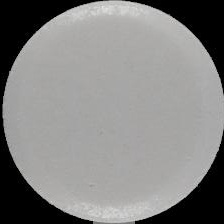0615-1571: (0, 0, 224, 224)
